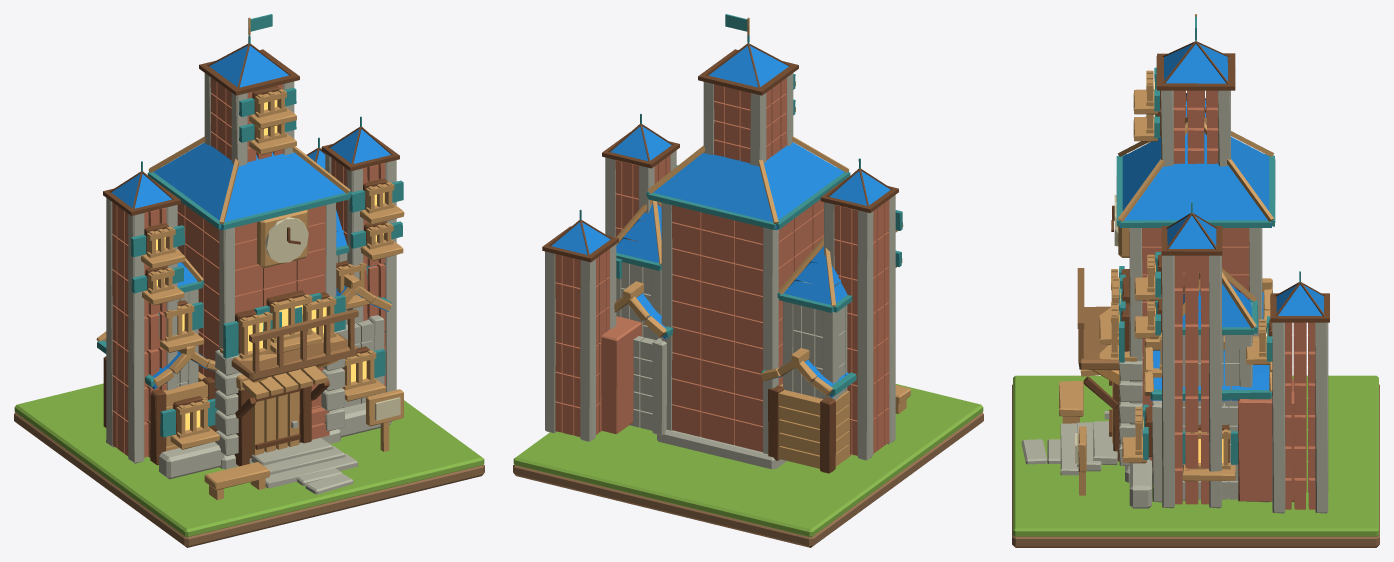
The model's file is town_hall_l13_active_LOD1.glb.
3 renders of one model, left to right at view 1: azimuth 30°, elevation 25°; view 2: azimuth 150°, elevation 25°; view 3: azimuth 270°, elevation 25°, orthographic. The views are drawn at different scales.
Parts seen in each view (by area): view 1: town_hall_l13_active_foundation.001, town_hall_l13_active_grass_tile.001, town_hall_l13_active_earth_tile.001, town_hall_l13_active_path_stone.005; view 2: town_hall_l13_active_foundation.001, town_hall_l13_active_grass_tile.001, town_hall_l13_active_earth_tile.001; view 3: town_hall_l13_active_foundation.001, town_hall_l13_active_grass_tile.001, town_hall_l13_active_earth_tile.001, town_hall_l13_active_path_stone.005.
Boxes of the visible parts, x1,y1,x2,y2 form: town_hall_l13_active_foundation.001: [96, 14, 404, 500]; town_hall_l13_active_grass_tile.001: [14, 383, 484, 537]; town_hall_l13_active_earth_tile.001: [14, 412, 484, 547]; town_hall_l13_active_path_stone.005: [305, 473, 353, 494]; town_hall_l13_active_foundation.001: [542, 14, 910, 473]; town_hall_l13_active_grass_tile.001: [513, 384, 983, 537]; town_hall_l13_active_earth_tile.001: [513, 412, 983, 547]; town_hall_l13_active_foundation.001: [1059, 14, 1329, 513]; town_hall_l13_active_grass_tile.001: [1013, 375, 1378, 536]; town_hall_l13_active_earth_tile.001: [1012, 384, 1379, 547]; town_hall_l13_active_path_stone.005: [1021, 439, 1047, 464].
Size of the model in its own units: 3.6 by 4.94 by 3.6.
